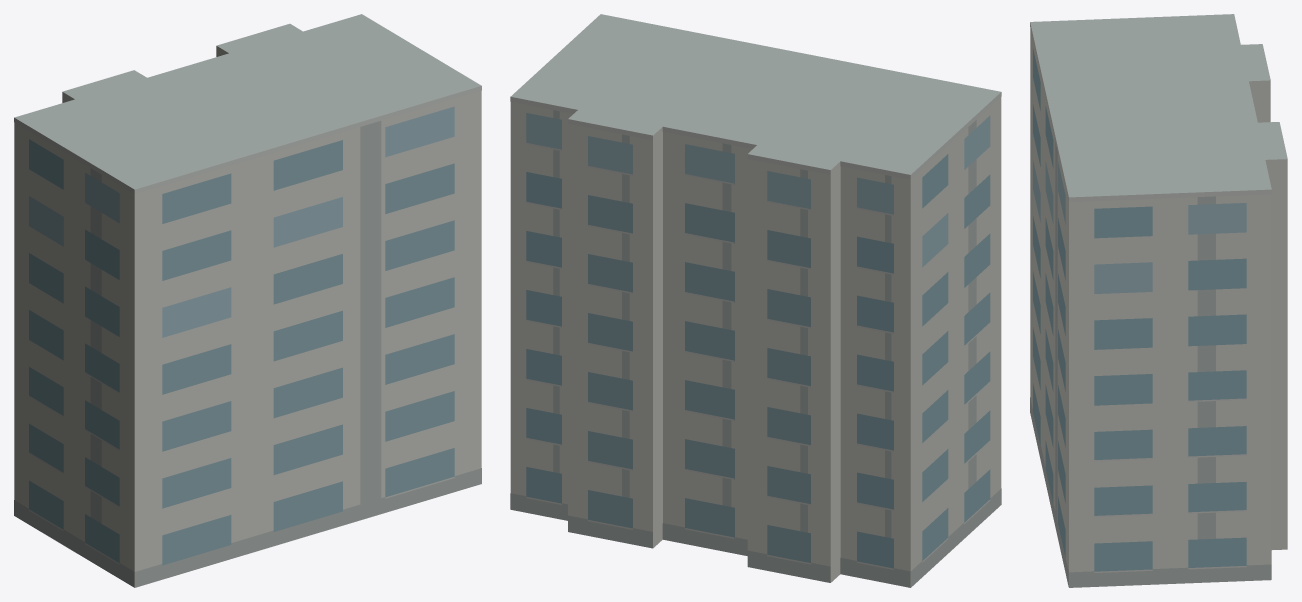
The model's file is survey-upis-32699138.glb.
The picture shows the model from 3 angles, left to right: view 1: azimuth 30°, elevation 25°; view 2: azimuth 150°, elevation 25°; view 3: azimuth 270°, elevation 25°; orthographic projection. The views are drawn at different scales.
Parts seen in each view (by area): view 1: survey-upis-32699138.tmp; view 2: survey-upis-32699138.tmp; view 3: survey-upis-32699138.tmp.
Part boxes in pixels (<box>): survey-upis-32699138.tmp: <box>14,14,481,587</box>; survey-upis-32699138.tmp: <box>510,14,1001,587</box>; survey-upis-32699138.tmp: <box>1030,14,1287,587</box>.
Size of the model in its own units: 20.46 by 20.3 by 12.15.
